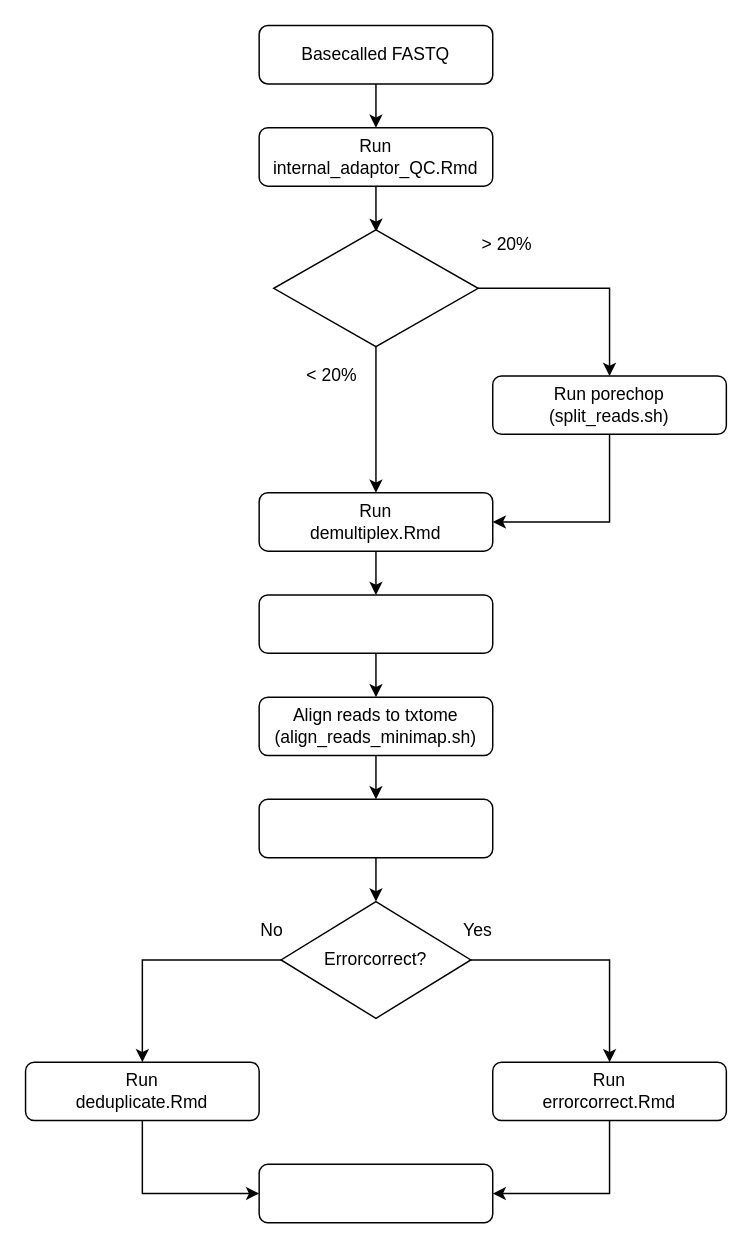
The diagram is 752 pixels wide and 1248 high, and some of its shapes have lost their labels. The centre of each missing label's shape, as x and y in pixels:
"Internal adapter %" belongs at [375,287].
"Processed FASTQ" belongs at [375,1193].
"Run grouping.Rmd" belongs at [375,828].
"Run internal_adaptor_filter.Rmd" belongs at [375,623].
